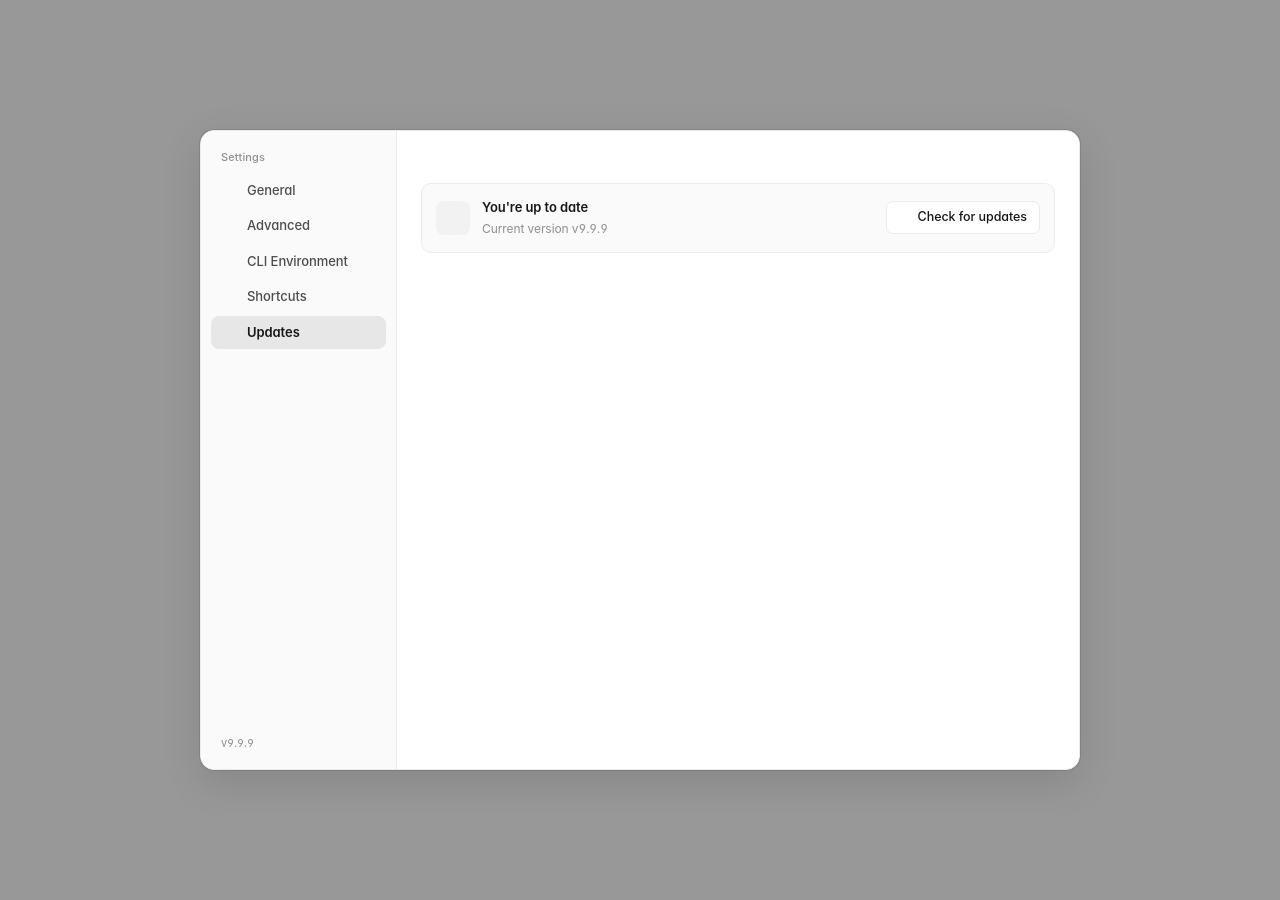
SettingsModal › reports when the app is up to date
Click the button "Check for updates": click(963, 218) [886,201,1040,234]
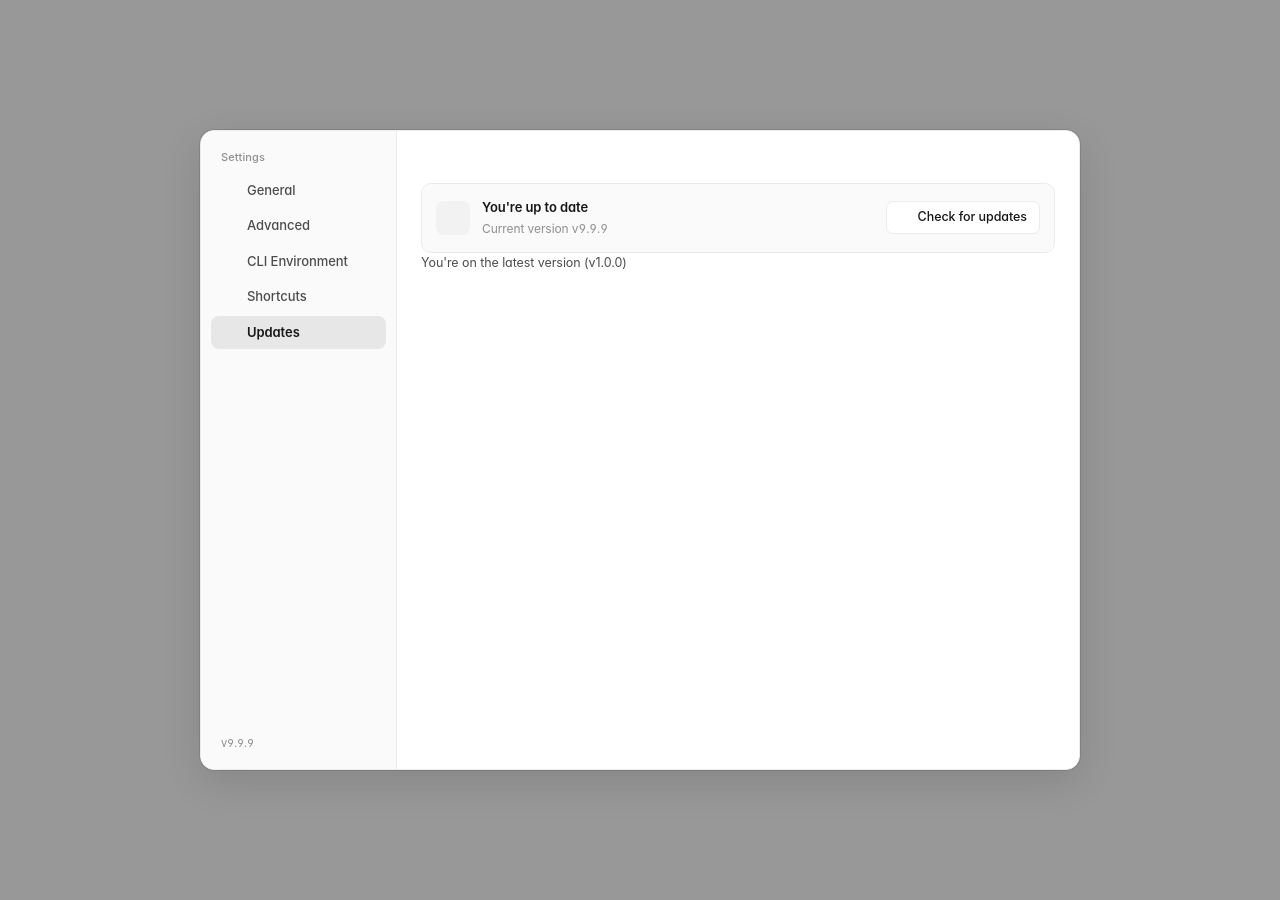
Expected: the text "latest version" is shown, [421,254,627,270]
